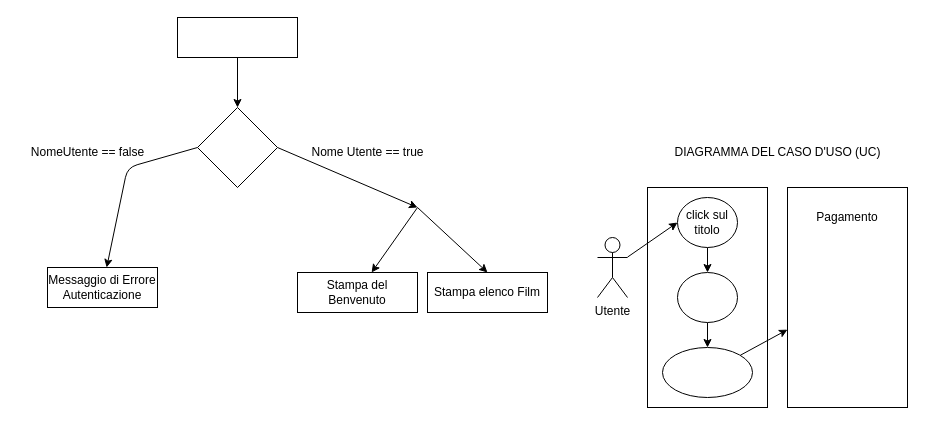
The diagram is 925 pixels wide and 425 high, and some of its shapes have lost their labels. The shapes that lost their labels are listed below. From the top down, each one's centre as x and y in pixels, then its label:
the point at 237,37: Acquisizione nome Utente
the point at 707,297: Lettura Info film
the point at 707,372: Prenotazione biglietto
